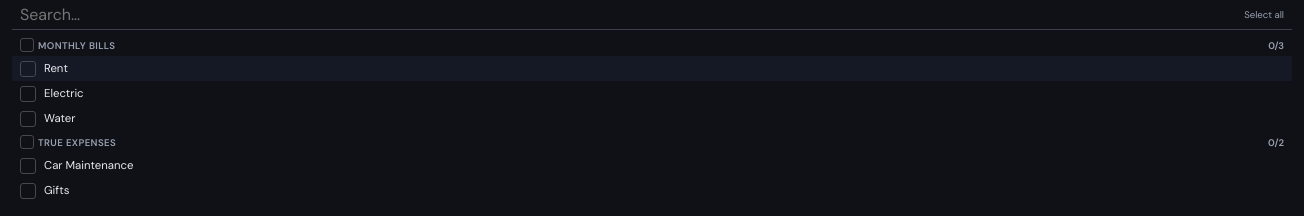
Scenario: GroupedMultiSelect › reports no results rather than an empty box
Step 1. Type "zzz" into the field with placeholder "Search…" → x=628, y=14, box 20,4 -> 1236,25
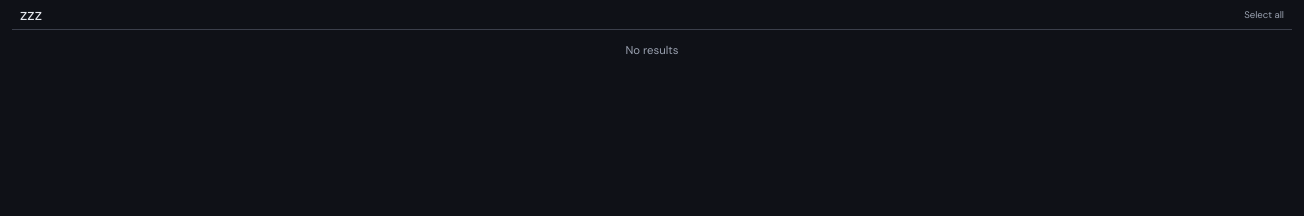
Check: the text "No results" is shown, box 626,43 -> 678,58
